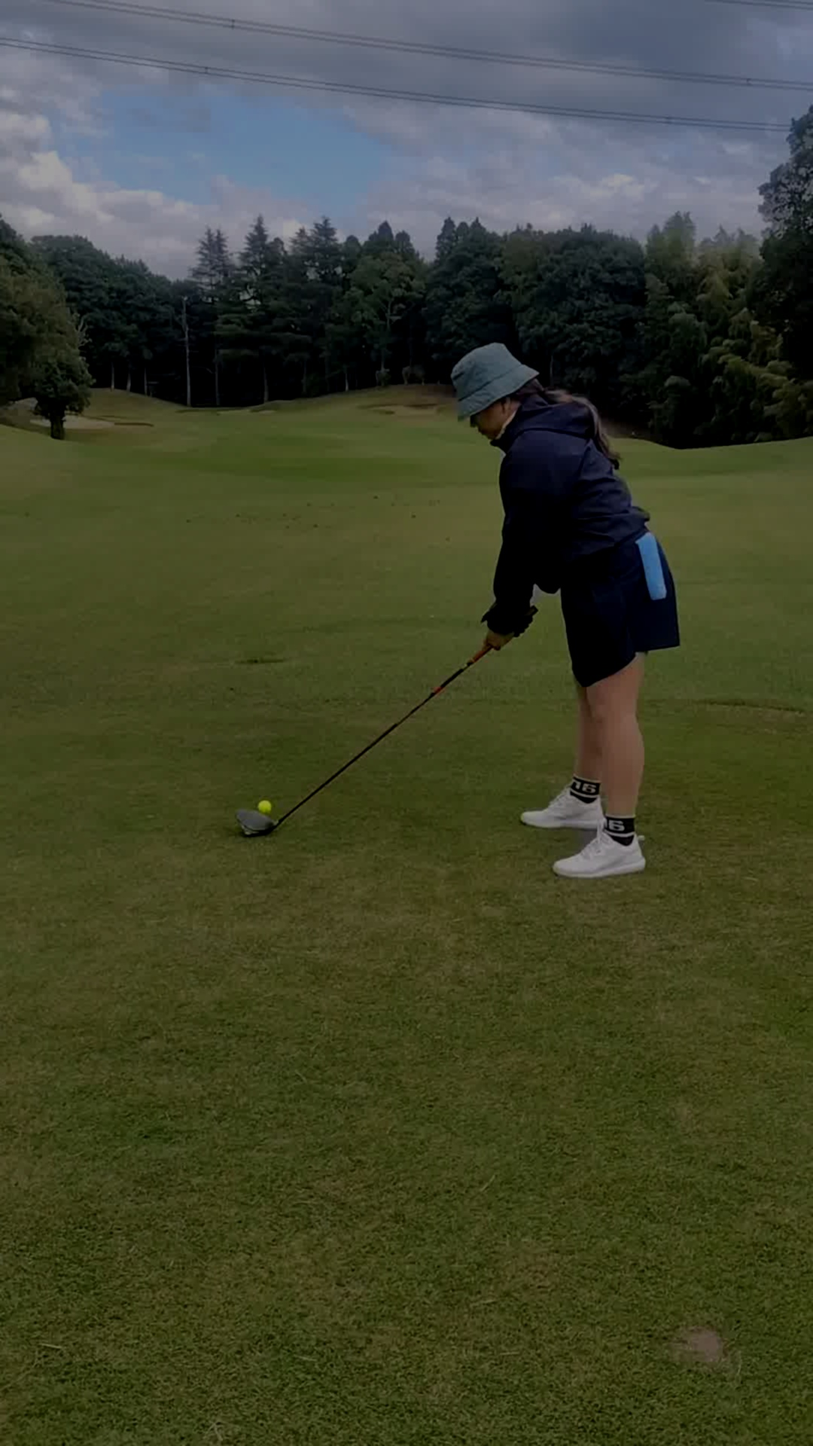clubhead: (132, 725, 406, 918)
